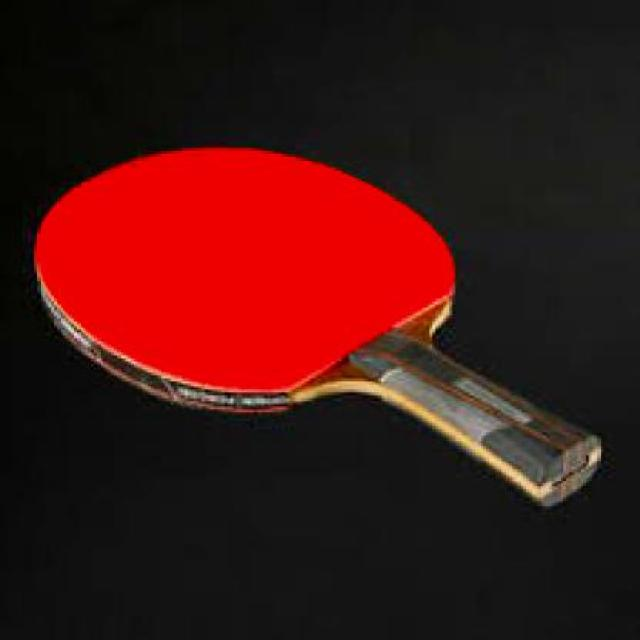table_tennis_racket: (28, 144, 466, 427)
